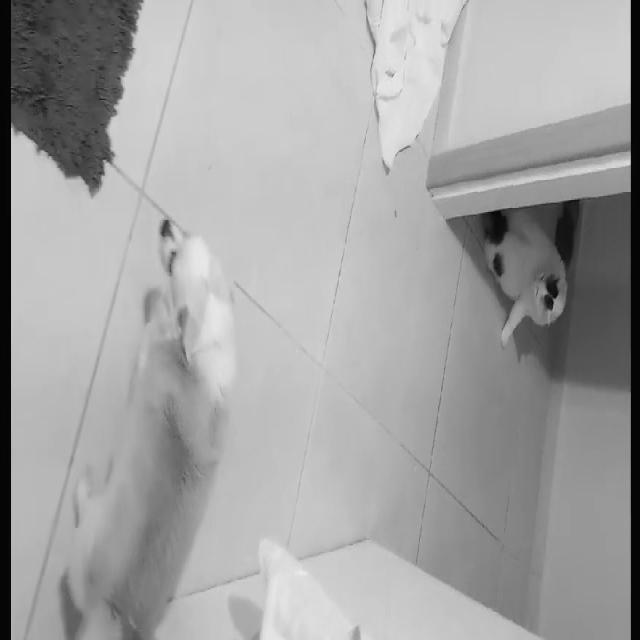Simba: (458, 216, 576, 341)
Theo: (51, 198, 244, 638)
